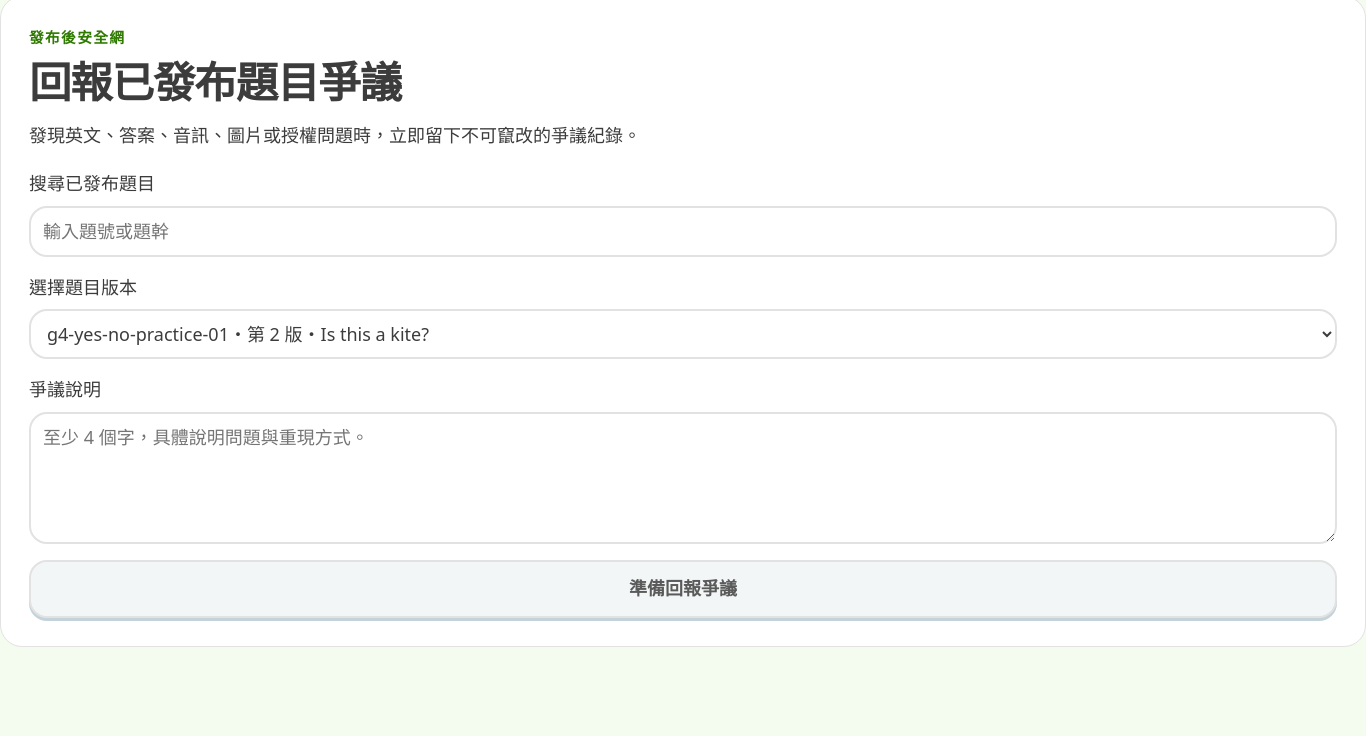
it: QuestionDisputePanel › requires a deliberate confirmation before recording a published-question dispute
Type "音訊內容與題幹不一致" into the text box labelled "爭議說明". click: (683, 478)
box: [29,412,1337,544]
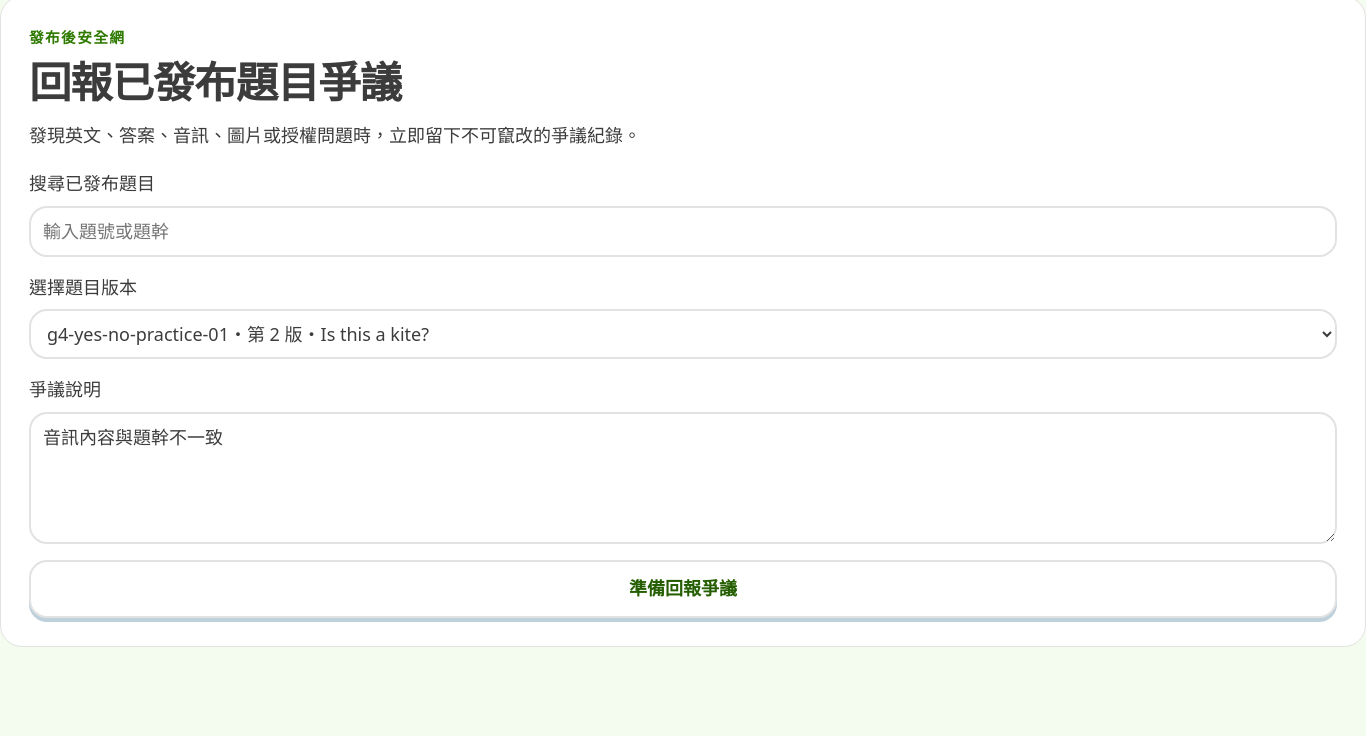
Click the button "準備回報爭議". click: (683, 589)
box: [29,560,1337,618]
(page scrolled)
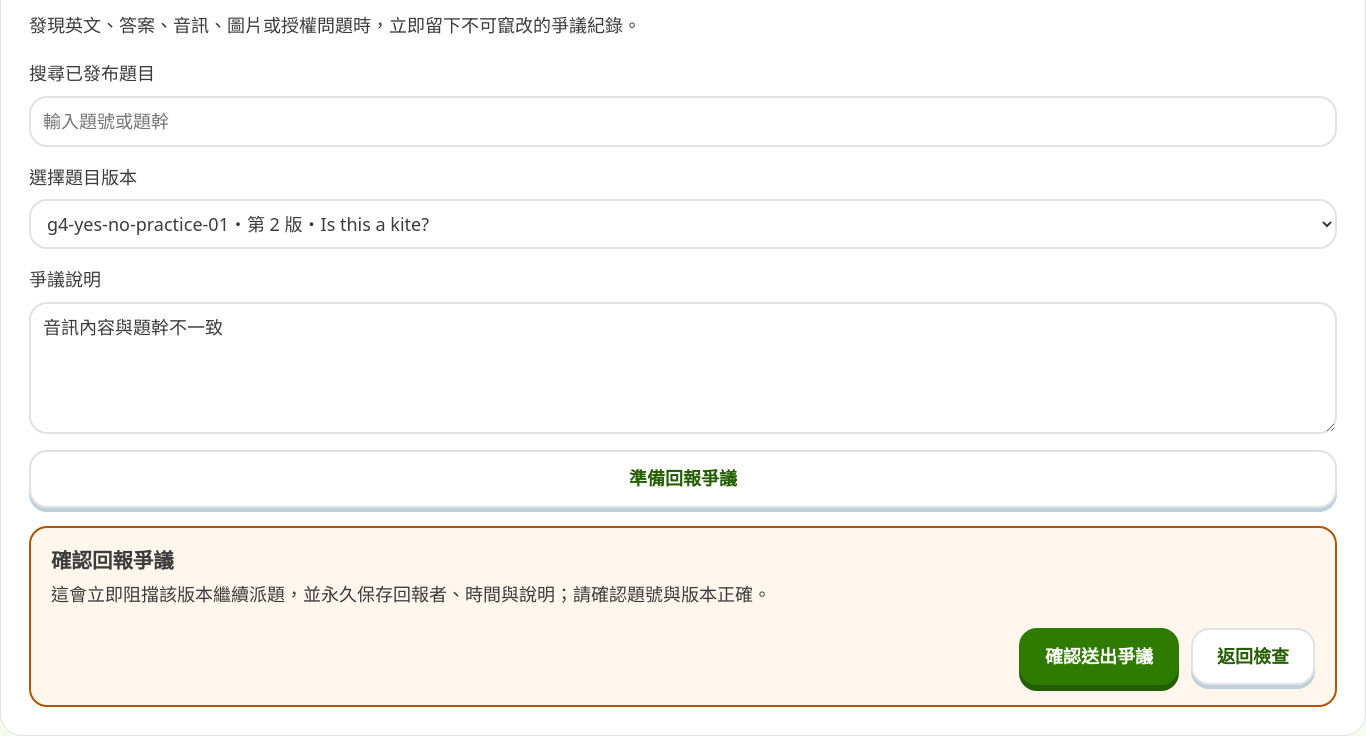
Now the dialog "確認回報爭議" is shown, box [29,526,1337,707]
Click the button "確認送出爭議". click: (1099, 656)
box: [1019,628,1179,685]
(page scrolled)
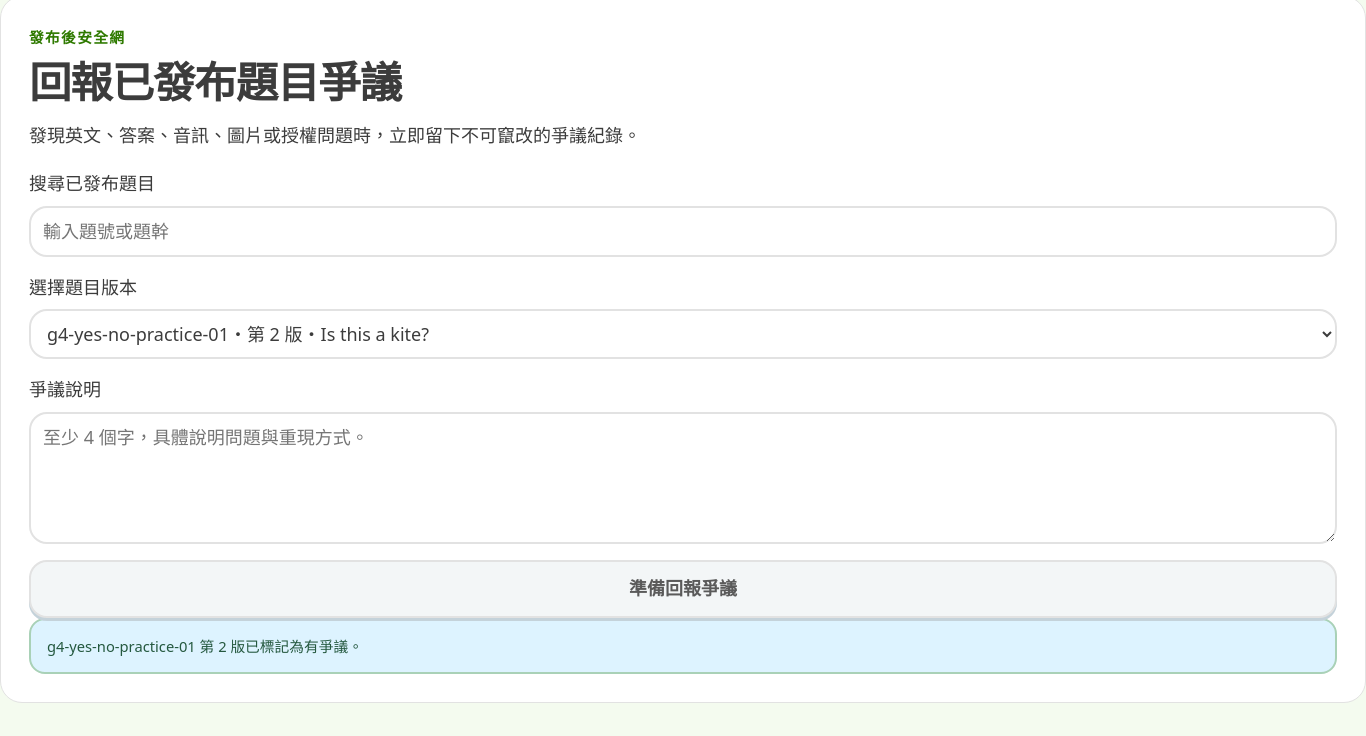
Now the text "g4-yes-no-practice-01 第 2 版已標記為有爭議。" is shown, box [29,618,1337,674]
